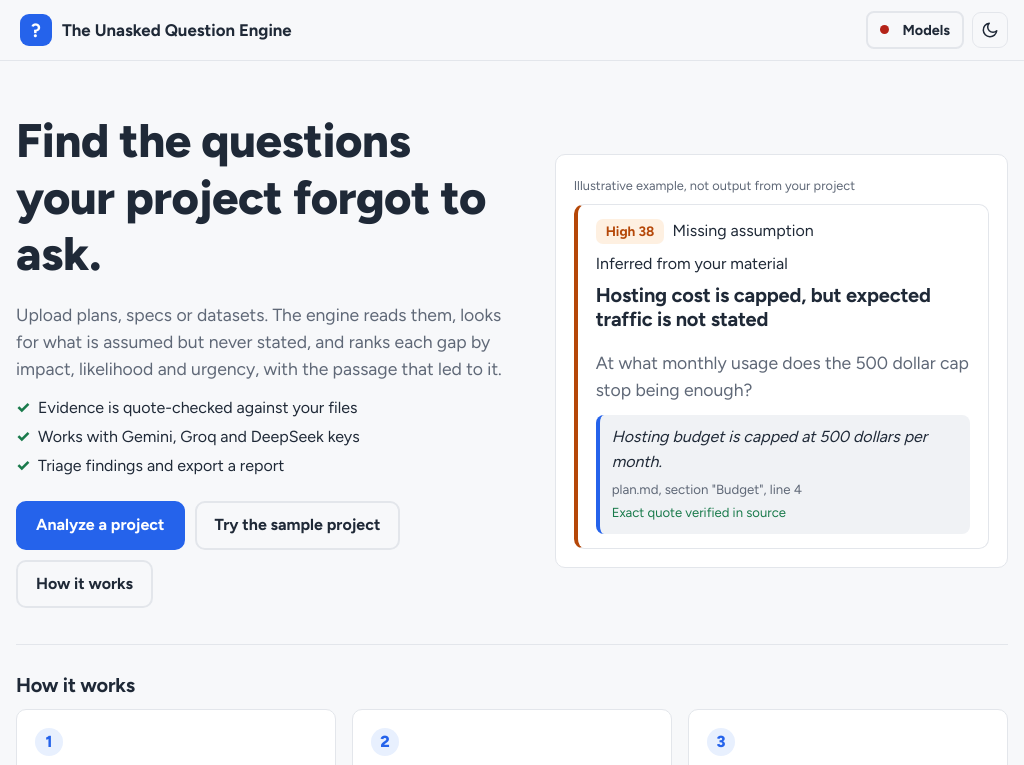
App › copes with an unreachable server
Click the button "Analyze a project" at (100, 525), box [16,501,184,550]
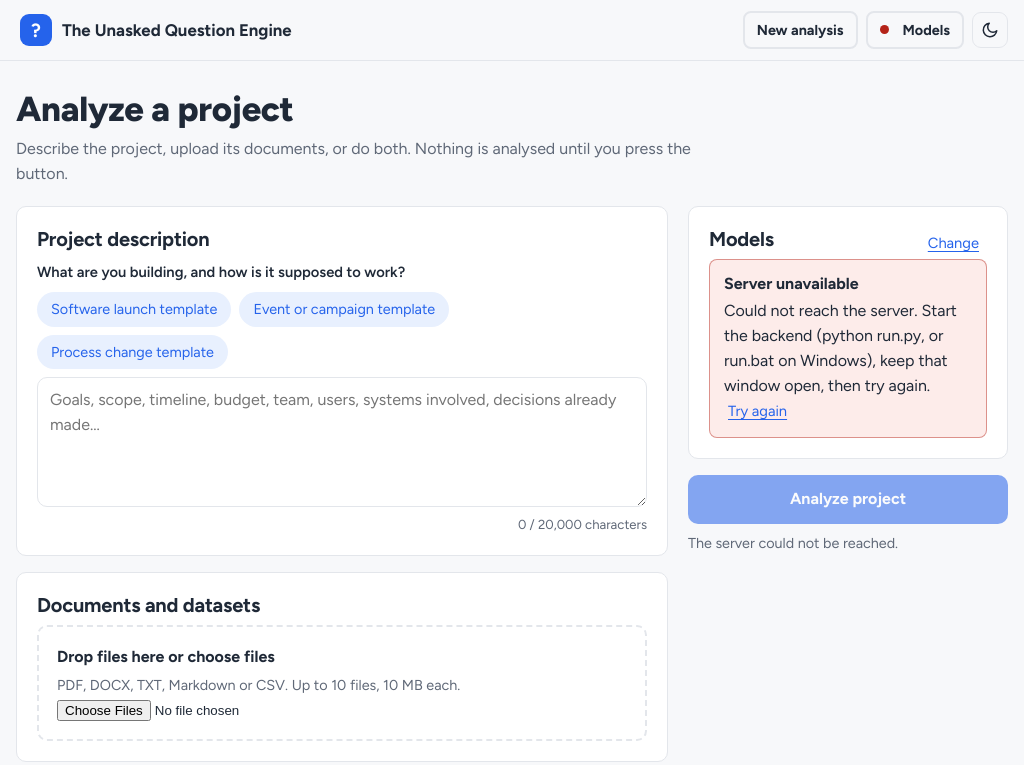
expect the text "Server unavailable" is shown: met, box [724,274,859,293]
expect the button "Analyze project" is disabled: met, box [688,475,1008,524]
